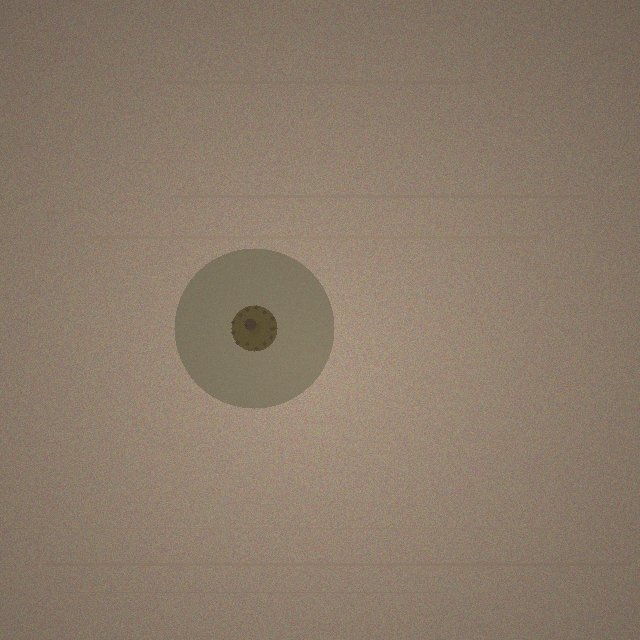cold_weld: (174, 248, 334, 408)
